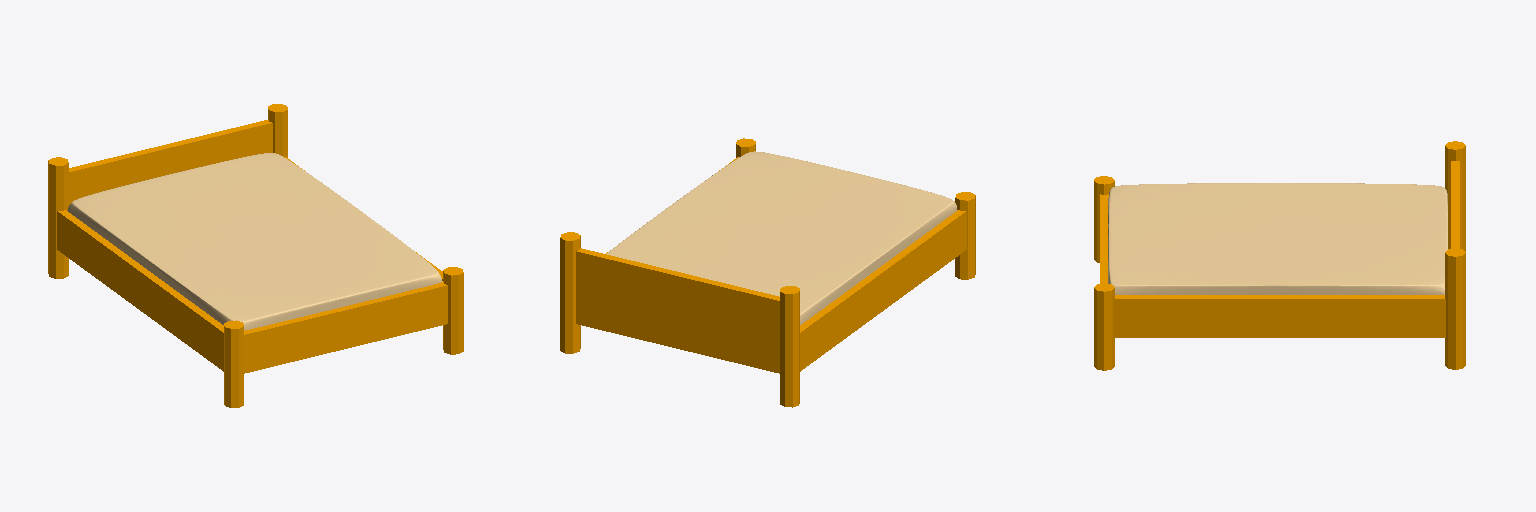
File: bed.obj
3 views of the same model, side by side, from view 1: azimuth 30°, elevation 25°; view 2: azimuth 150°, elevation 25°; view 3: azimuth 270°, elevation 25° (orthographic).
Parts seen in each view (by area): view 1: Matelas_9, Bord_1_4, Bord_3_8, Bord_3, Pied_1_2, Pied_2_5, Pied_3_6, Pied_1; view 2: Matelas_9, Bord_3, Bord_3_8, Pied_1_2, Pied_1, Pied_2_5; view 3: Matelas_9, Bord_2_7, Pied_1, Pied_3_6, Pied_1_2, Bord_3, Pied_2_5, Bord_1_4.
Part boxes in pixels (bbox=[...]): Matelas_9: bbox=[67, 153, 442, 330]; Bord_1_4: bbox=[244, 282, 447, 373]; Bord_3_8: bbox=[57, 210, 223, 371]; Bord_3: bbox=[69, 120, 272, 204]; Pied_1_2: bbox=[48, 157, 68, 278]; Pied_2_5: bbox=[224, 320, 243, 407]; Pied_3_6: bbox=[443, 267, 463, 354]; Pied_1: bbox=[268, 104, 287, 157]; Matelas_9: bbox=[607, 151, 956, 324]; Bord_3: bbox=[576, 248, 779, 373]; Bord_3_8: bbox=[800, 210, 966, 371]; Pied_1_2: bbox=[780, 286, 799, 407]; Pied_1: bbox=[560, 232, 580, 353]; Pied_2_5: bbox=[955, 192, 975, 279]; Matelas_9: bbox=[1108, 183, 1447, 294]; Bord_2_7: bbox=[1114, 295, 1445, 337]; Pied_1: bbox=[1445, 248, 1465, 369]; Pied_3_6: bbox=[1094, 283, 1114, 370]; Pied_1_2: bbox=[1445, 141, 1465, 251]; Bord_3: bbox=[1451, 161, 1459, 248]; Pied_2_5: bbox=[1094, 176, 1114, 262]; Bord_1_4: bbox=[1100, 194, 1108, 283].
Bounding box in the file's own units: 152 × 69.85 × 207.